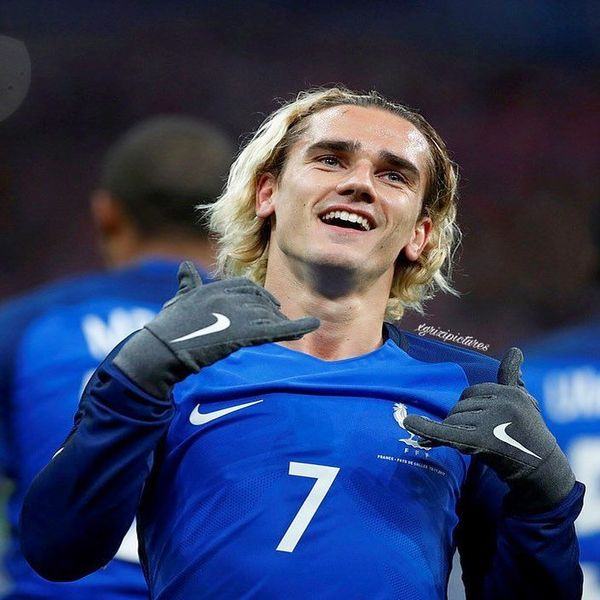nike: (489, 416, 545, 467), (165, 308, 234, 347), (188, 394, 268, 426)
